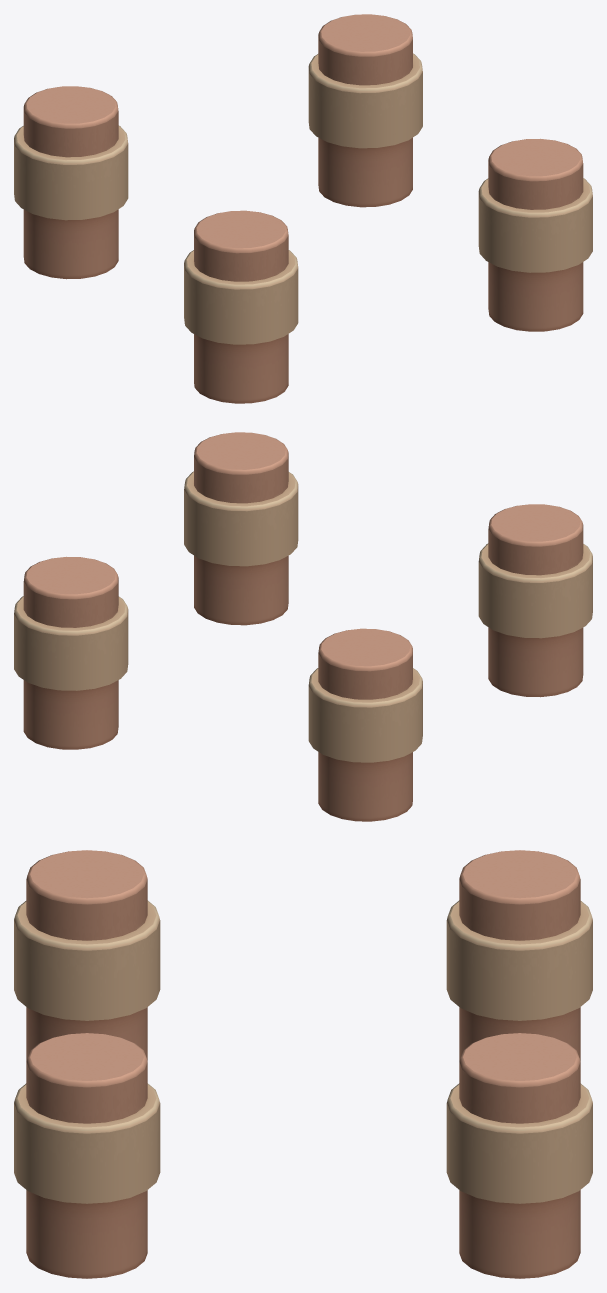
The model's file is Props.fbx.
3 views of the same model, one above another, from view 1: azimuth 30°, elevation 25°; view 2: azimuth 150°, elevation 25°; view 3: azimuth 270°, elevation 25° (orthographic). The views are drawn at different scales.
Visible parts, largest first — view 1: Cylinder-2 (1), Cylinder-2 (2), Cylinder-2, Cylinder-2 (3); view 2: Cylinder-2, Cylinder-2 (3), Cylinder-2 (1), Cylinder-2 (2); view 3: Cylinder-2 (2), Cylinder-2 (3), Cylinder-2, Cylinder-2 (1).
Boxes of the visible parts, box(x1,y1,x2,y2) form: Cylinder-2 (1): box(14, 86, 128, 279); Cylinder-2 (2): box(478, 138, 592, 331); Cylinder-2: box(184, 210, 298, 403); Cylinder-2 (3): box(308, 14, 422, 207); Cylinder-2: box(478, 504, 592, 697); Cylinder-2 (3): box(14, 556, 128, 749); Cylinder-2 (1): box(308, 628, 422, 821); Cylinder-2 (2): box(184, 432, 298, 625); Cylinder-2 (2): box(14, 1033, 160, 1278); Cylinder-2 (3): box(446, 1033, 592, 1278); Cylinder-2: box(14, 850, 160, 1061); Cylinder-2 (1): box(446, 850, 592, 1061).
Bounding box in the file's own units: 13.38 × 5 × 13.38.
